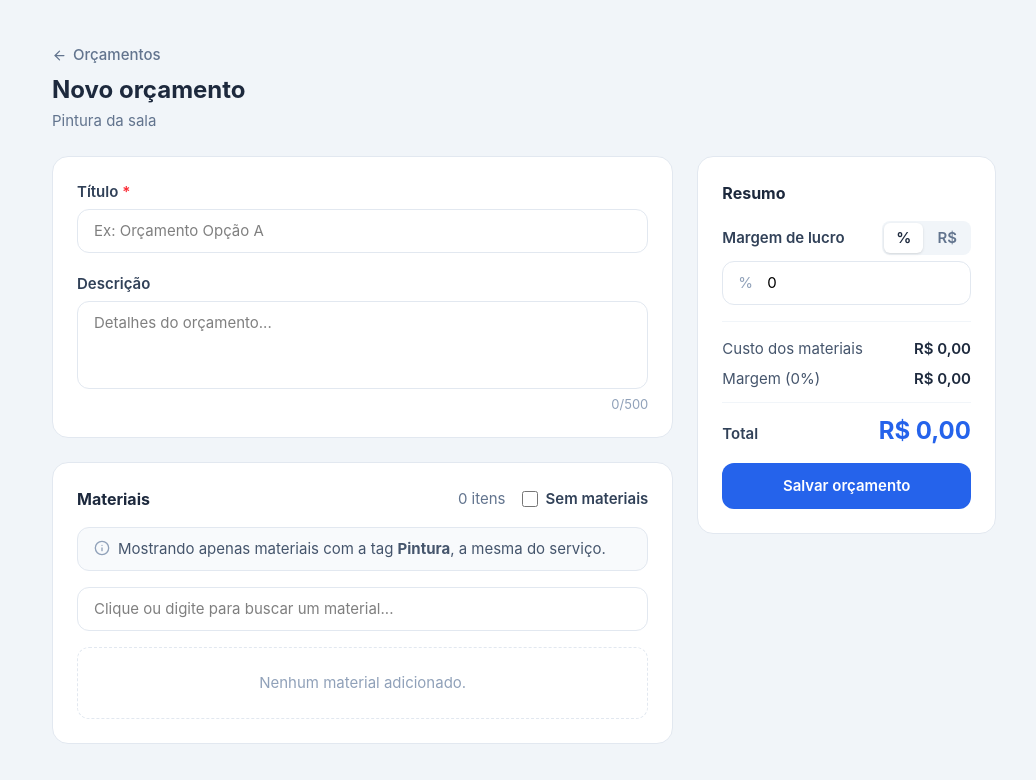
it: novo orçamento › busca só materiais da tag do serviço, calcula o total e avisa se falta estoque
expect the text "a mesma do serviço" is shown: met, box [450,539,606,558]
Type "Opção A" into the field with placeholder "Ex: Orçamento Opção A". click: point(363, 231)
box: [77,209,648,253]
Focus the field with placeholder "Clique ou digite para buscar um material...". click: point(363, 609)
box: [77,587,648,631]
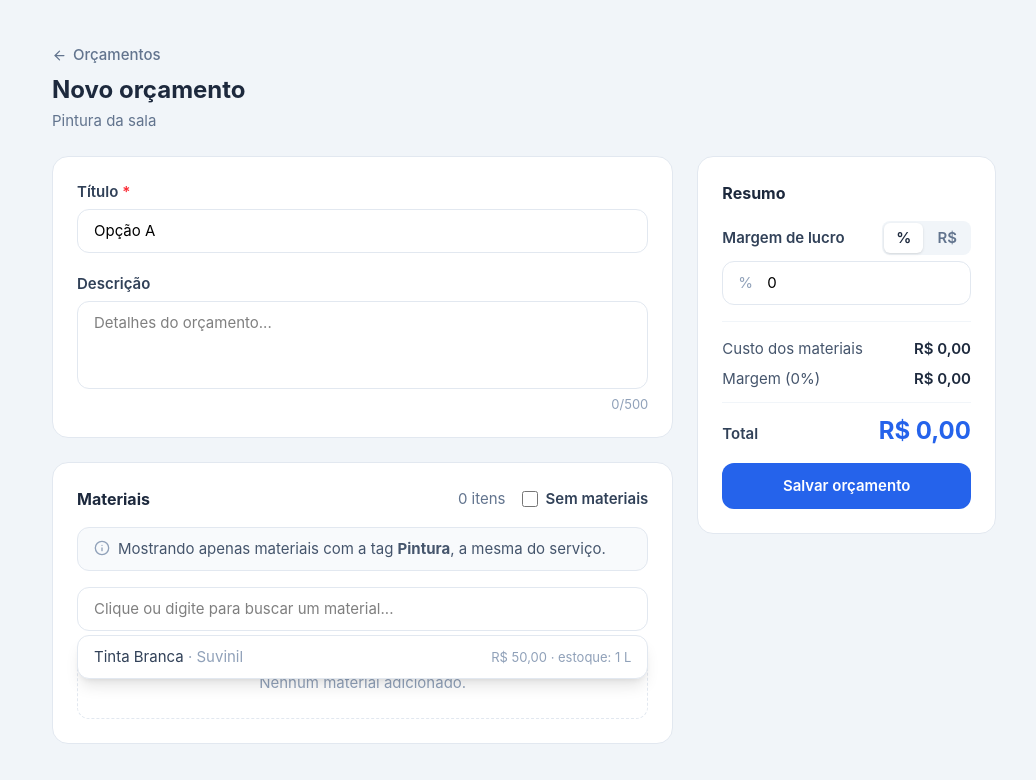
Press the mouse on the button "Tinta Branca · Suvinil R$ 50,00 · estoque: 1 L" at point(139, 657), box [78,636,647,678]
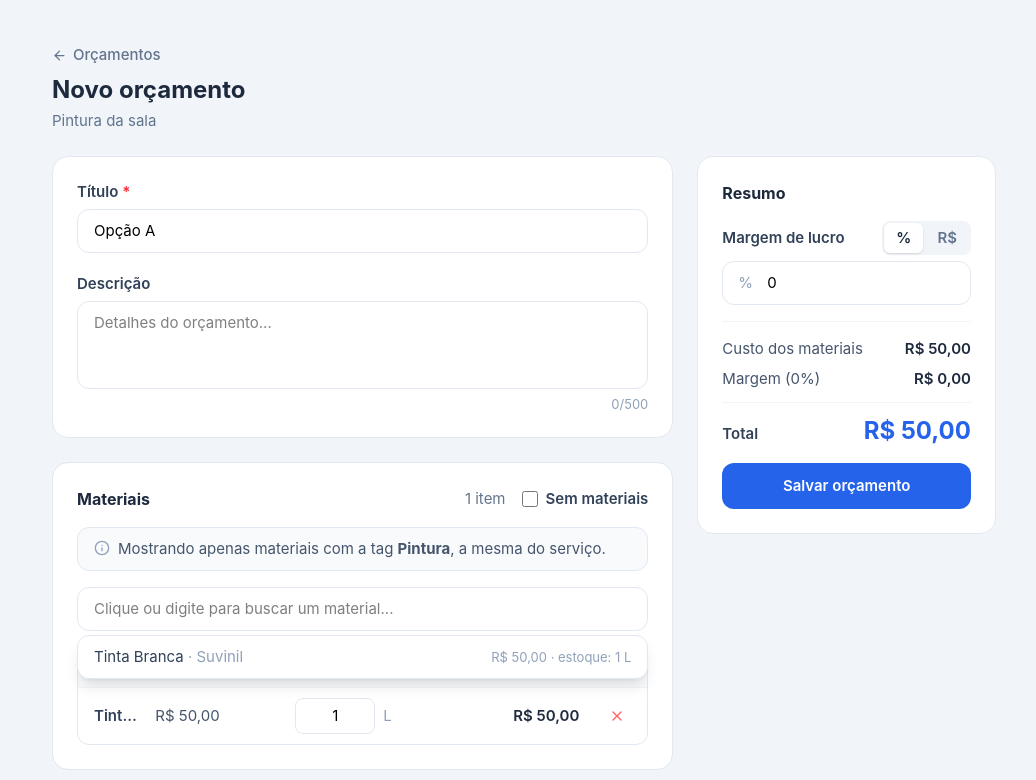
Replace the text in the field named "Quantidade de Tinta Branca" with "2". click: point(335, 716)
box: [295,698,375,734]
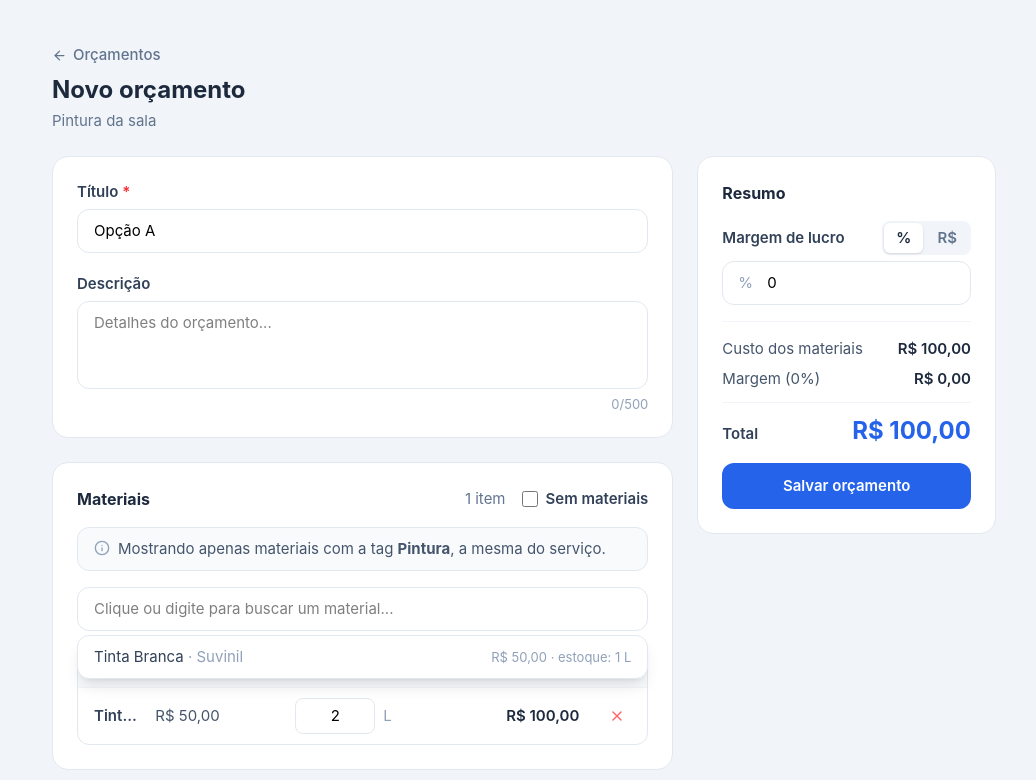
Replace the text in the field labelled "Margem de lucro" with "10". click: point(847, 283)
box: [722,261,971,305]
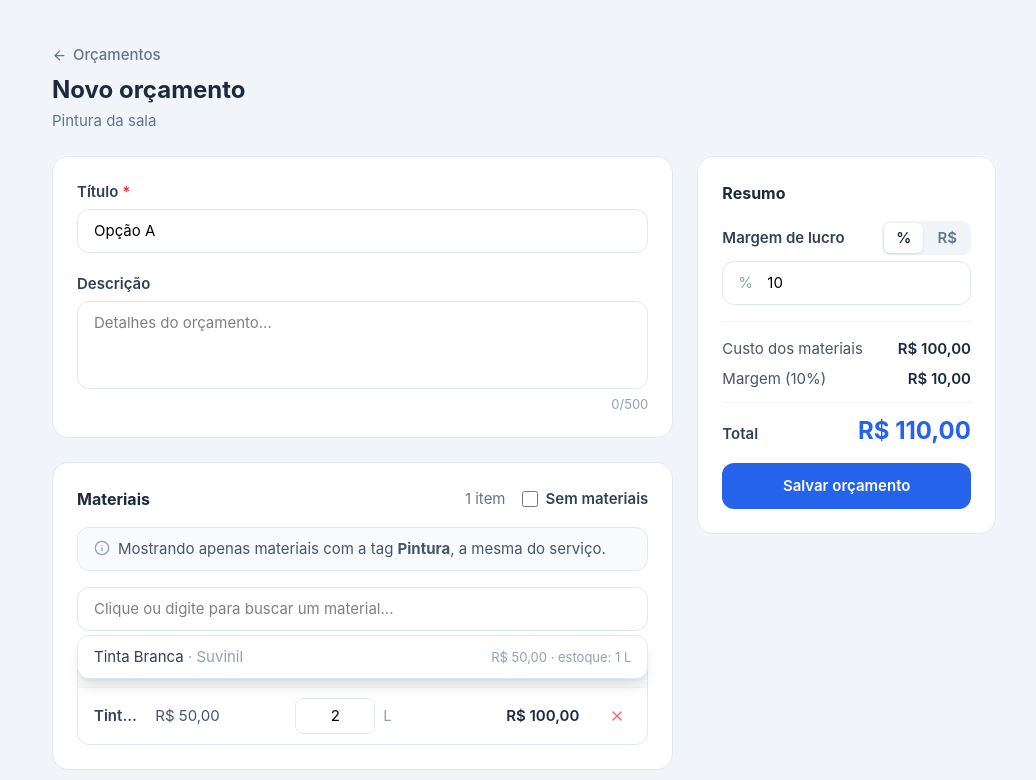
Note: Estoque 1, pedido 2: pergunta antes de salvar.
Click the button "Salvar orçamento". click: point(847, 486)
box: [722,463,971,509]
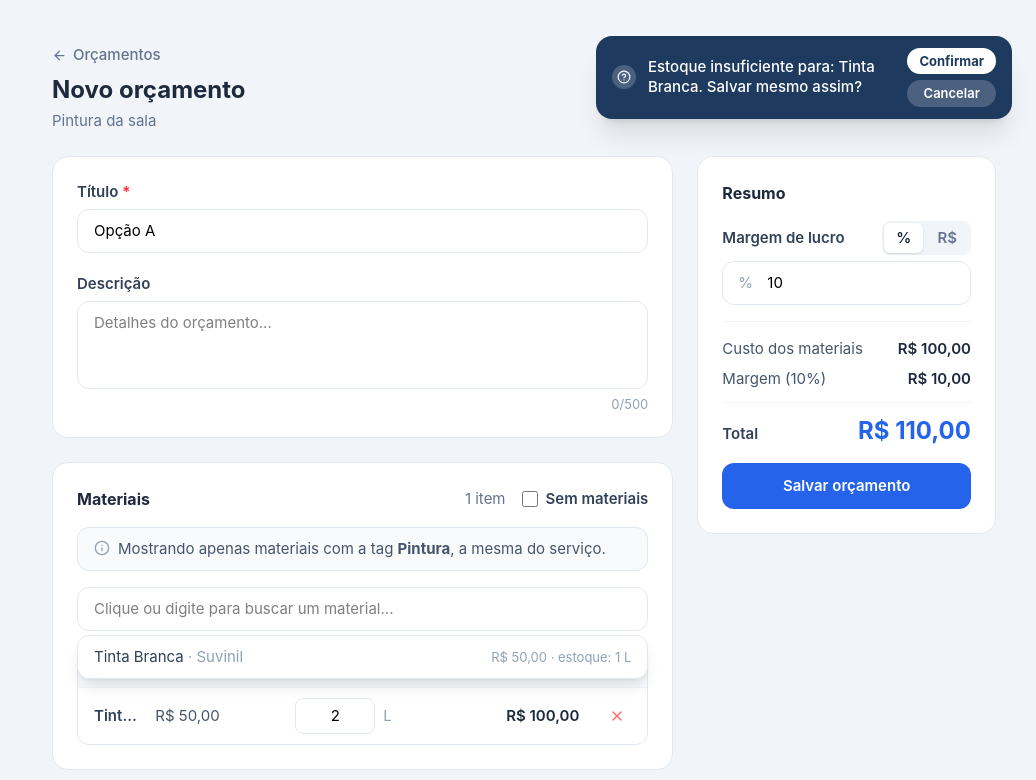
expect the text "Estoque insuficiente para: Tinta Branca. Salvar mesmo assim?" is shown: met, box [648,57,895,98]
Click the button "Confirmar". click: point(952, 61)
box: [907,48,996,74]
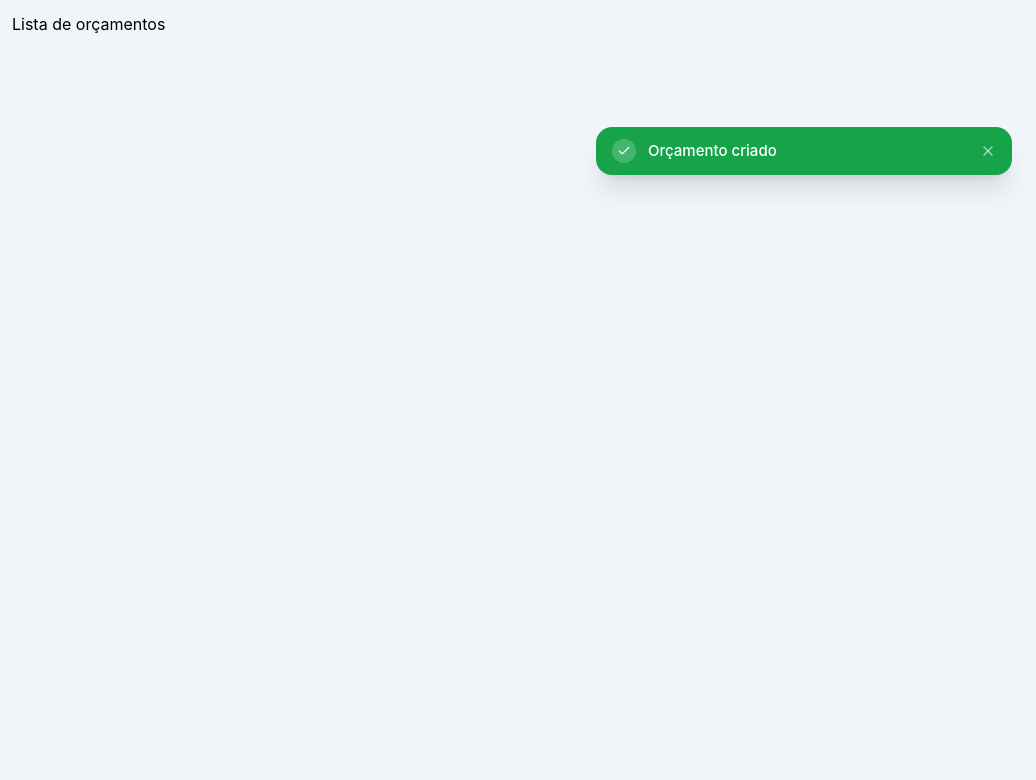
expect the text "Lista de orçamentos" is shown: met, box [12,14,165,34]
